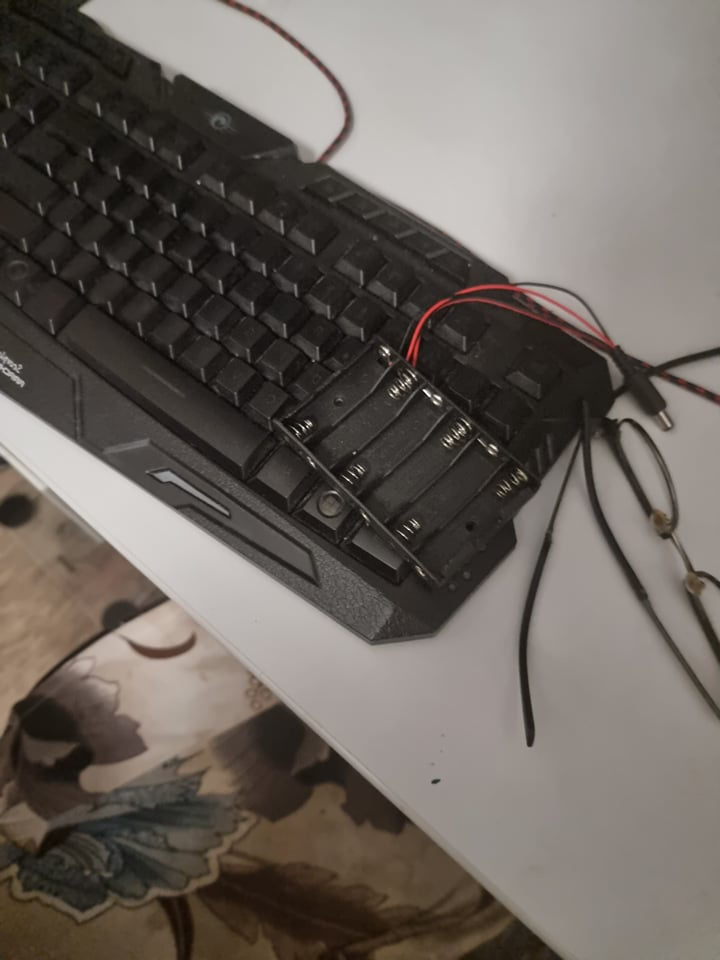BATTERY BOX: (271, 324, 543, 601)
